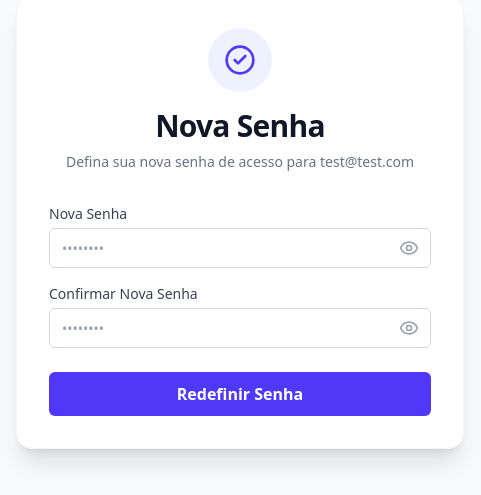
Test: ResetPasswordPage › shows error message if passwords do not match
Expected: the heading "Nova Senha" is shown, [155,105,325,146]
Type "password123" into the password field with placeholder "••••••••". click: (240, 248)
box: [49,228,431,268]
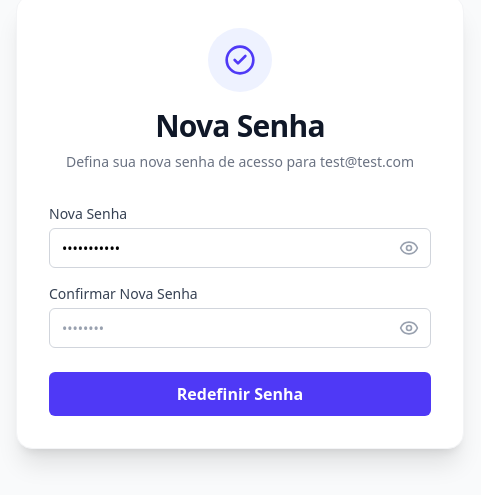
Type "password321" into the password field with placeholder "••••••••". click: (240, 328)
box: [49,308,431,348]
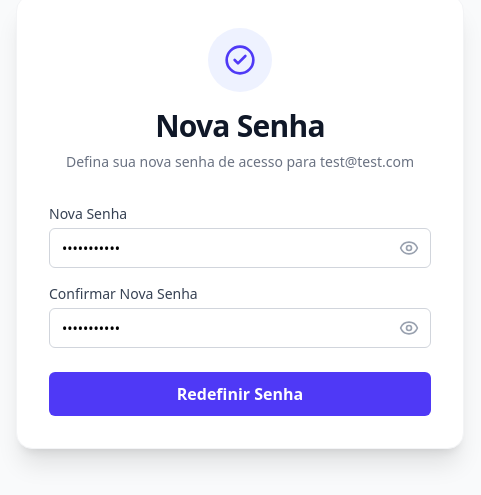
Click the button "Redefinir Senha". click: (240, 394)
box: [49,372,431,416]
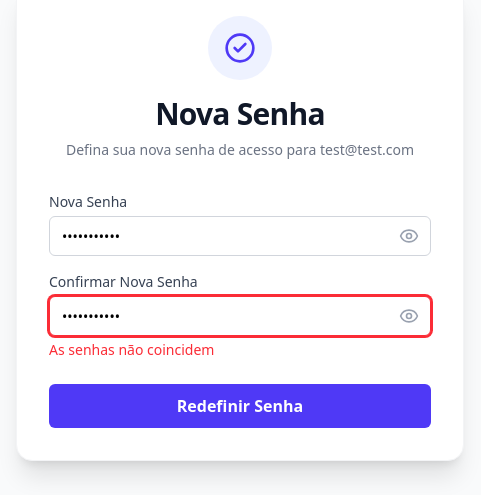
Expected: the text "As senhas não coincidem" is shown, [49,340,214,359]
